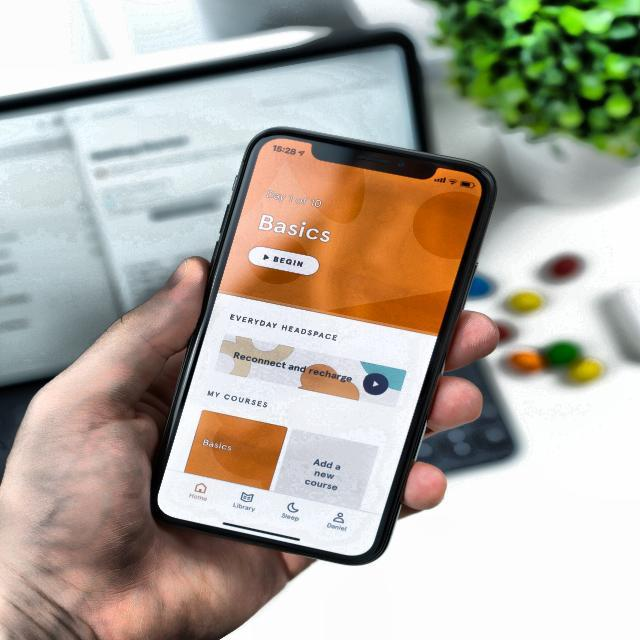Phone: (146, 120, 504, 572)
